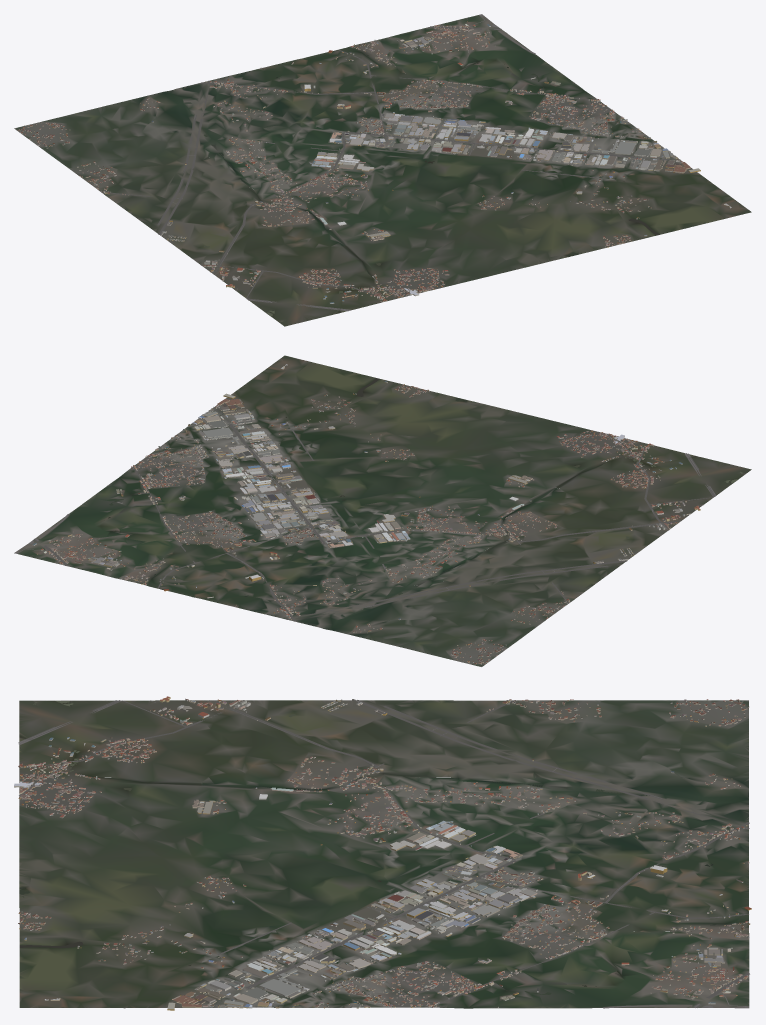
3 renders of one model, top to bottom at view 1: azimuth 30°, elevation 25°; view 2: azimuth 150°, elevation 25°; view 3: azimuth 270°, elevation 25°, orthographic. The views are drawn at different scales.
Visible parts, largest first — view 1: ground, buildings, roads; view 2: ground, buildings, roads; view 3: ground, buildings, roads, water.
Part boxes in pixels (x1,y1,x2,y2): ground: (14,15,751,326); buildings: (17,21,731,303); roads: (101,14,679,311); ground: (16,355,751,666); buildings: (32,364,700,664); roads: (14,408,716,621); ground: (19,700,749,1008); buildings: (14,696,751,1010); roads: (18,700,749,1008); water: (19,700,747,994).
Size of the model in its own units: 5687 by 39.22 by 5671.
